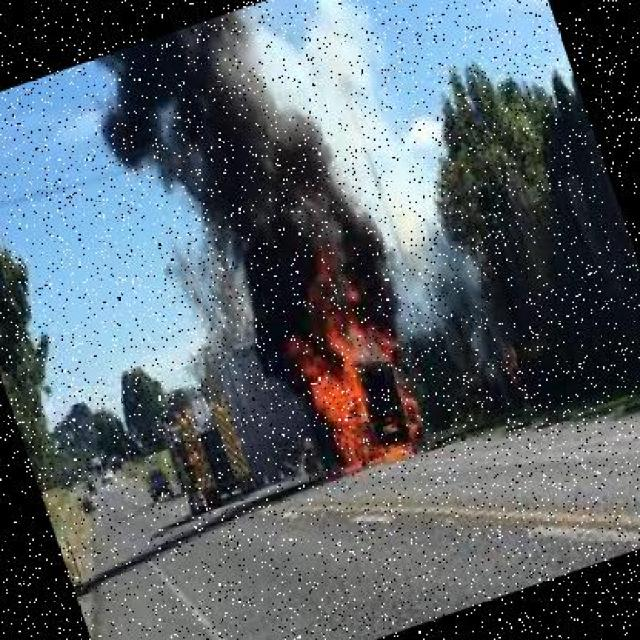fire: (240, 236, 448, 507)
